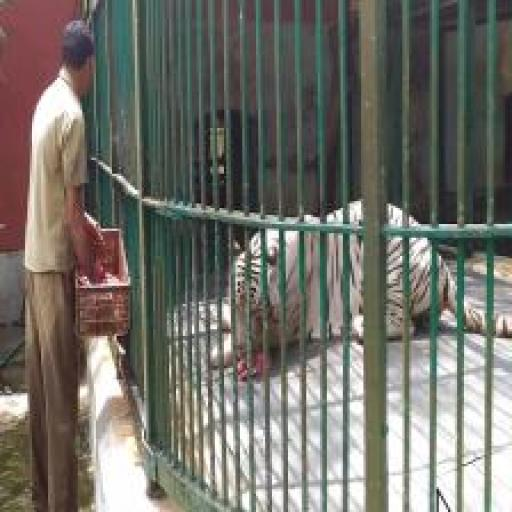Tiger: (210, 199, 512, 369)
